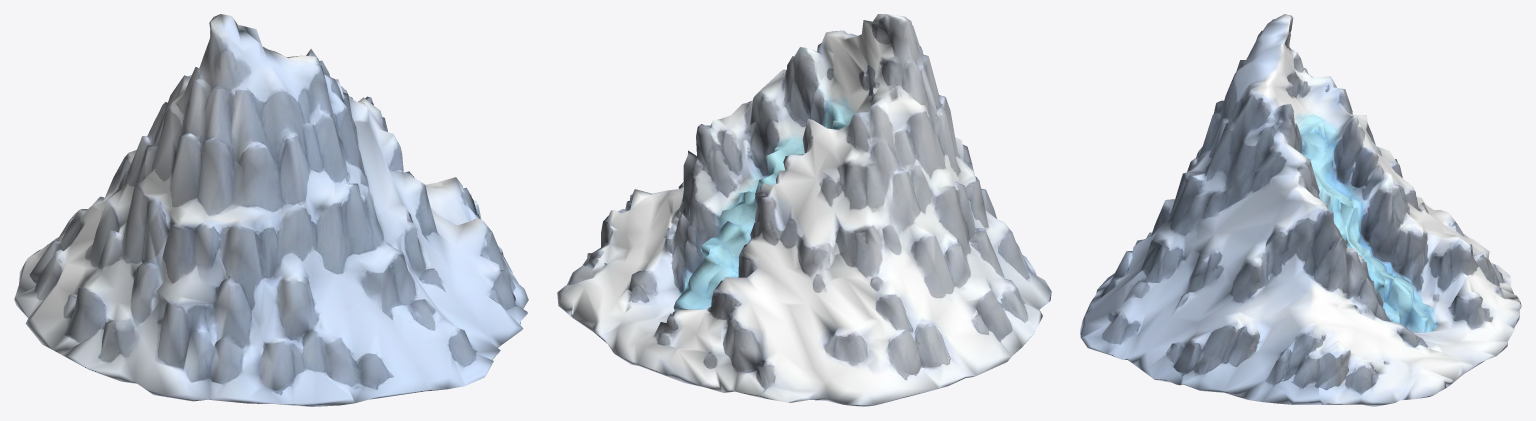
File: vista-peak.glb
3 renders of one model, left to right at view 1: azimuth 30°, elevation 25°; view 2: azimuth 150°, elevation 25°; view 3: azimuth 270°, elevation 25°, orthographic. The views are drawn at different scales.
Visible parts, largest first — view 1: tripo_node_7f1c73cc-dbc3-45c3-a3db-bb6f1678c03d; view 2: tripo_node_7f1c73cc-dbc3-45c3-a3db-bb6f1678c03d; view 3: tripo_node_7f1c73cc-dbc3-45c3-a3db-bb6f1678c03d.
Boxes of the visible parts, x1,y1,x2,y2 form: tripo_node_7f1c73cc-dbc3-45c3-a3db-bb6f1678c03d: [14, 14, 528, 406]; tripo_node_7f1c73cc-dbc3-45c3-a3db-bb6f1678c03d: [557, 14, 1051, 406]; tripo_node_7f1c73cc-dbc3-45c3-a3db-bb6f1678c03d: [1080, 14, 1521, 406].
Size of the model in its own units: 0.9975 by 0.6749 by 0.9978.
Materials: 1 (1 with a texture image).
